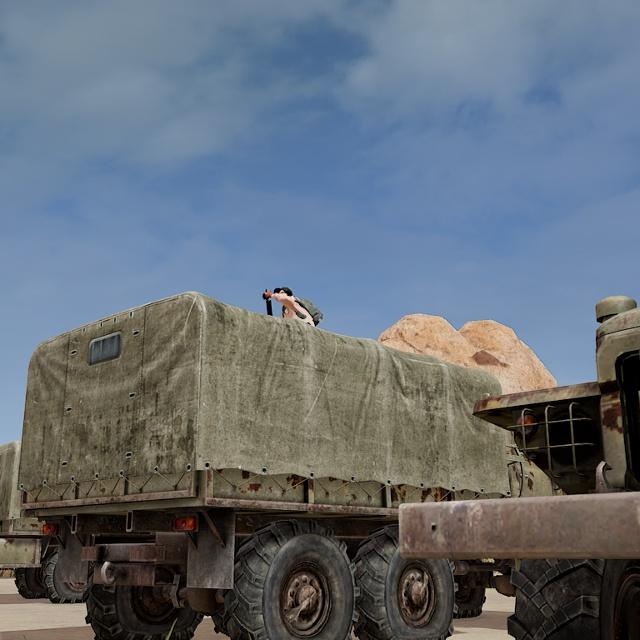people: (266, 274, 323, 335)
